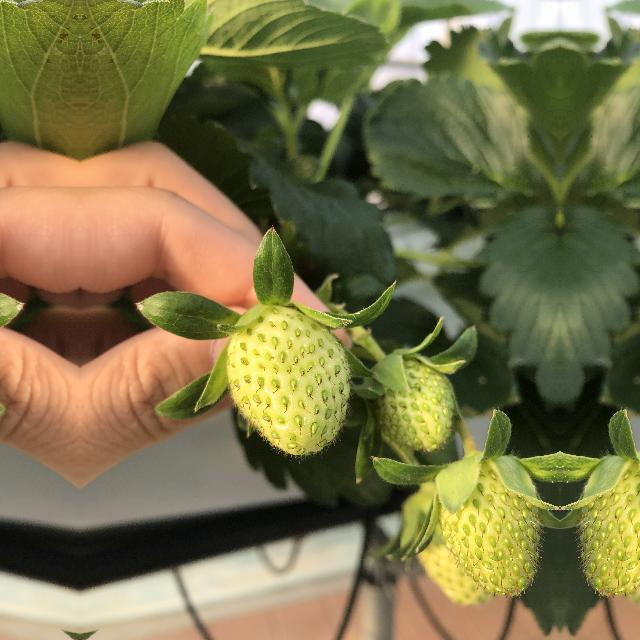Health_25: (218, 304, 358, 454), (438, 455, 540, 597), (580, 455, 640, 597), (371, 351, 454, 451)
